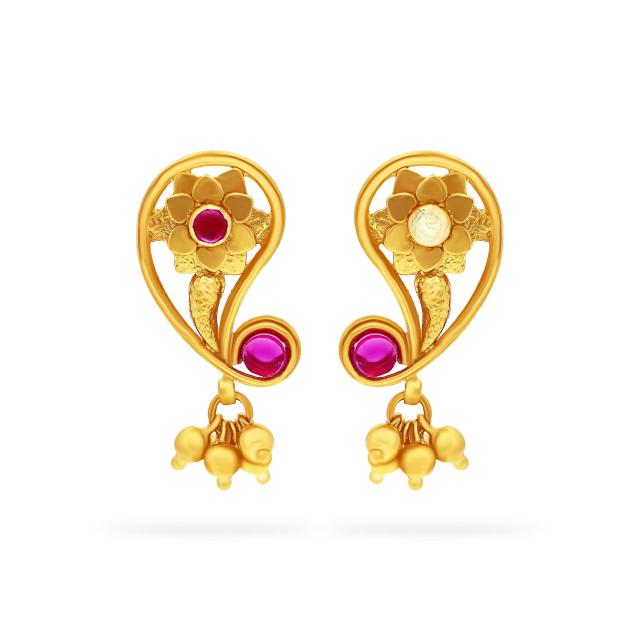missing gem: (407, 205, 451, 247)
